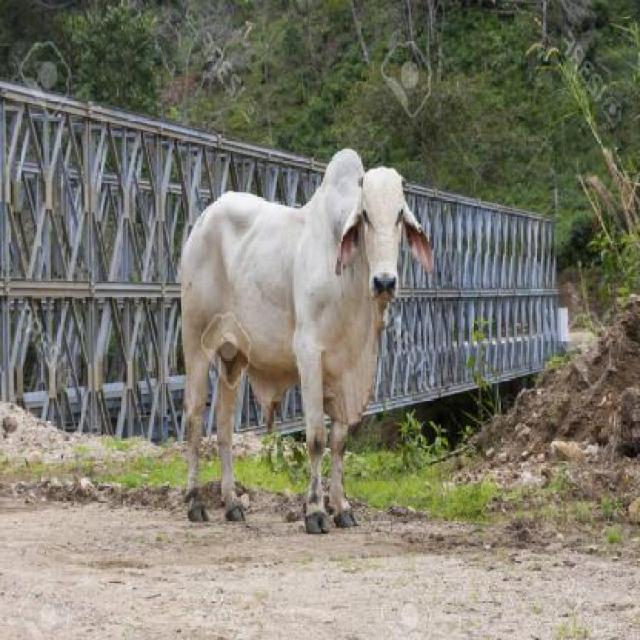Cow: (169, 148, 425, 532)
